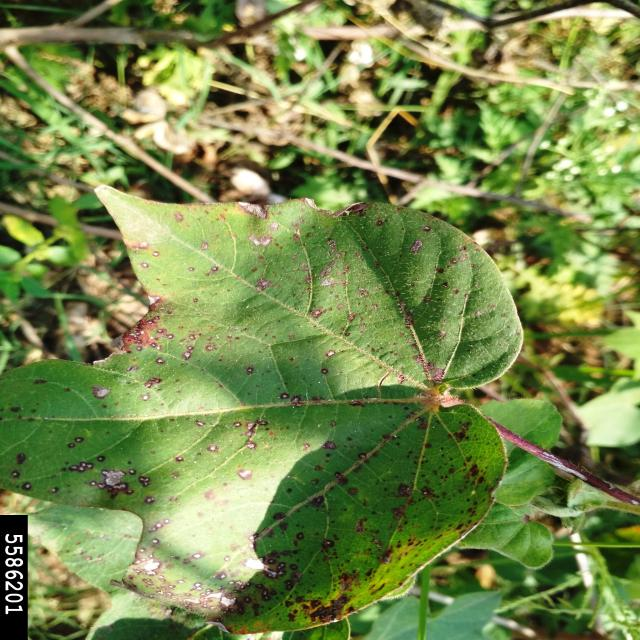Bacterial Blight: (124, 446, 428, 607)
